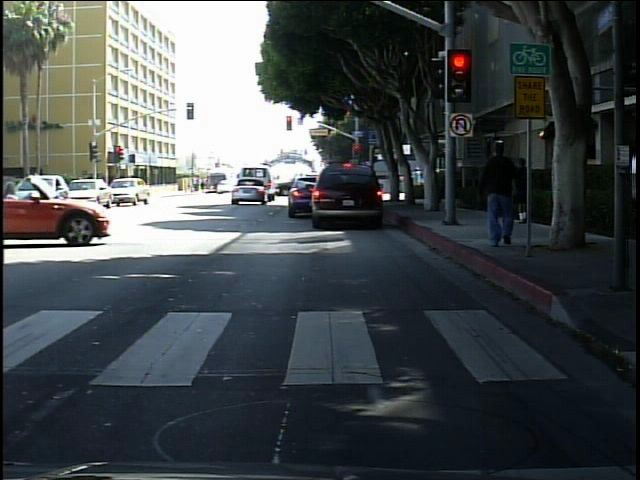person: (477, 130, 526, 254), (513, 147, 539, 232)
